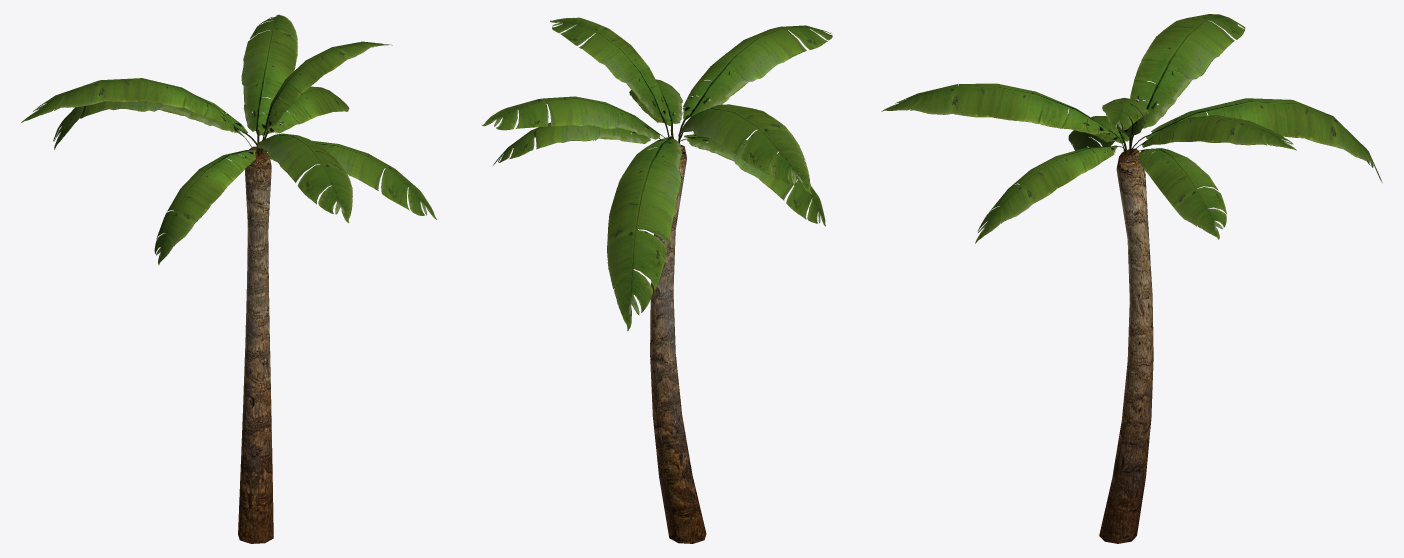
The model's file is palmtree.obj.
The picture shows the model from 3 angles, left to right: view 1: azimuth 30°, elevation 25°; view 2: azimuth 150°, elevation 25°; view 3: azimuth 270°, elevation 25°; orthographic projection. The views are drawn at different scales.
Parts seen in each view (by area): view 1: Cylinder01; view 2: Cylinder01; view 3: Cylinder01.
Boxes of the visible parts, left/top/right/bottom form: Cylinder01: left=21, top=14, right=437, bottom=543; Cylinder01: left=482, top=17, right=832, bottom=543; Cylinder01: left=881, top=14, right=1382, bottom=543.
Size of the model in its own units: 11.75 by 15.97 by 15.58.
Materials: 1 (1 with a texture image).
